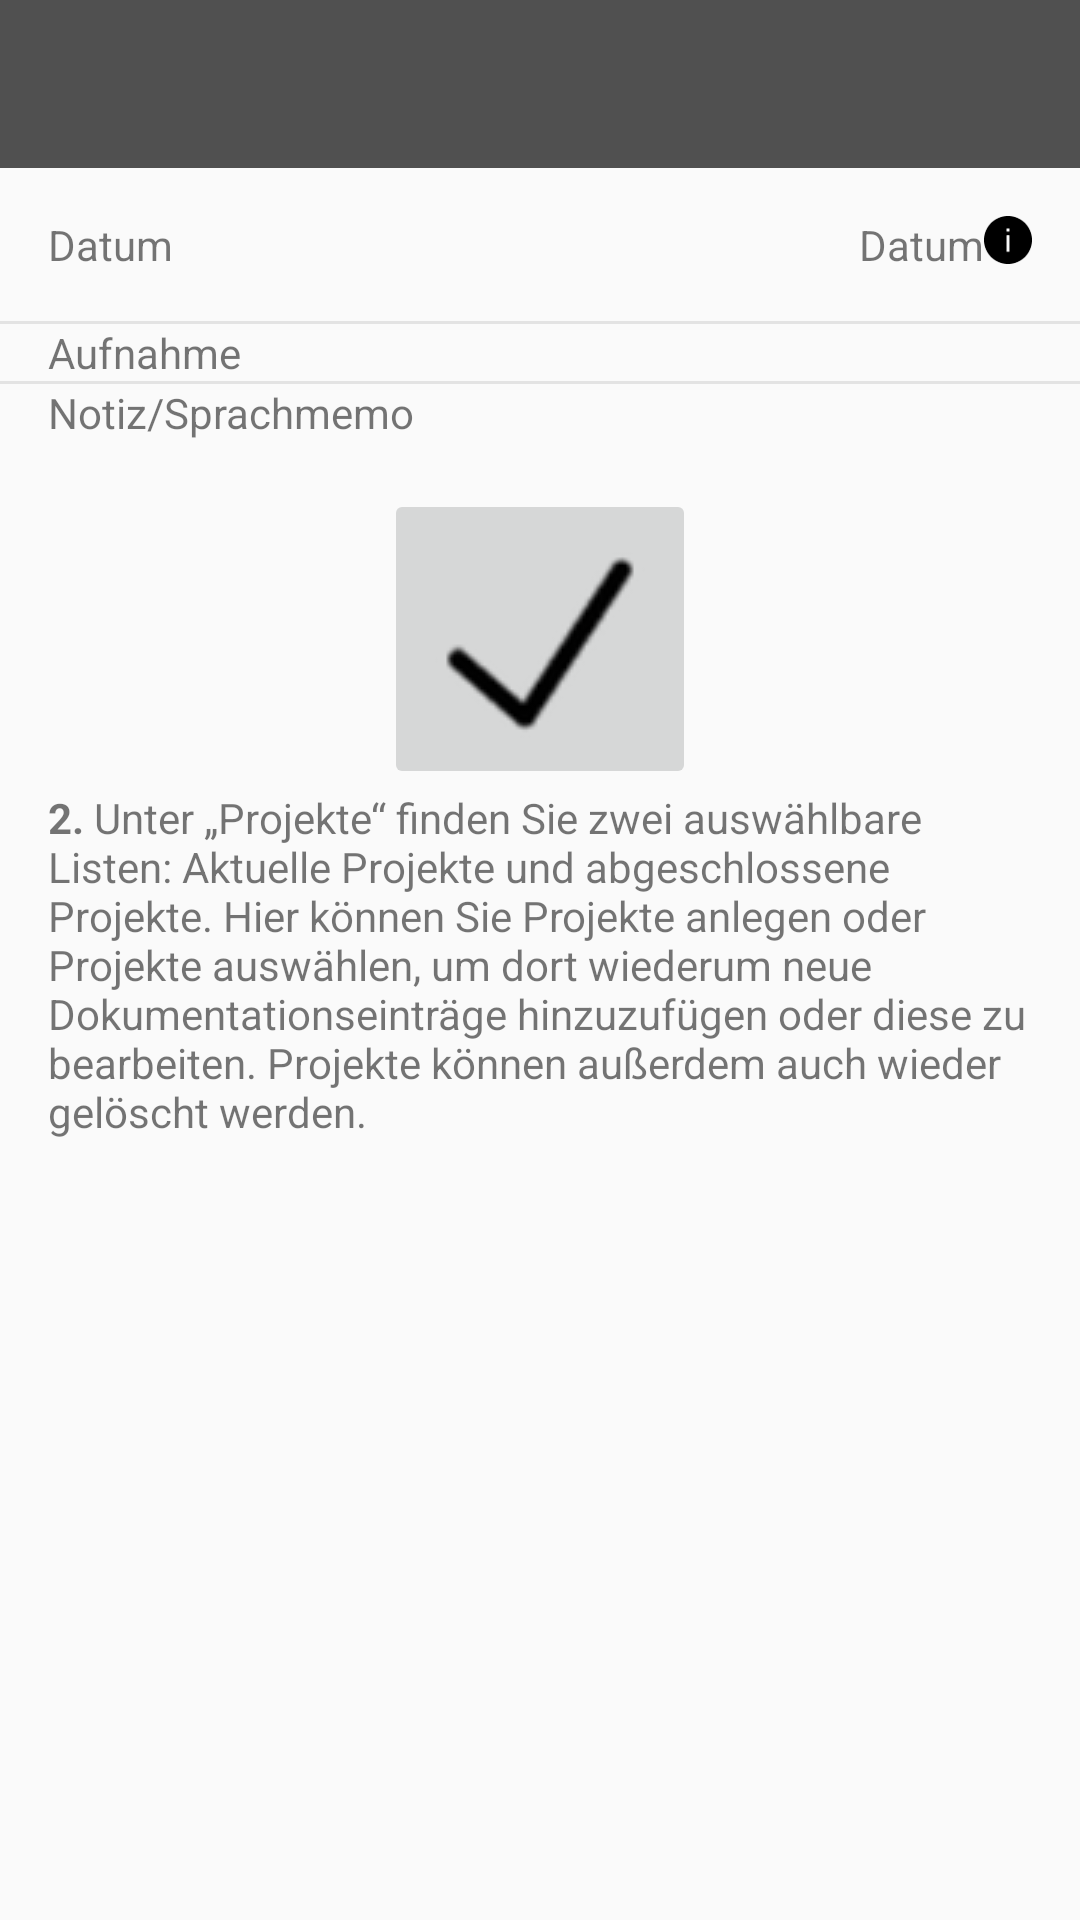

Screen size 1080px×1920px. Icon name, then its box in pixels as (x1, y1, x2, y2):
info: (984, 216, 1032, 264)
